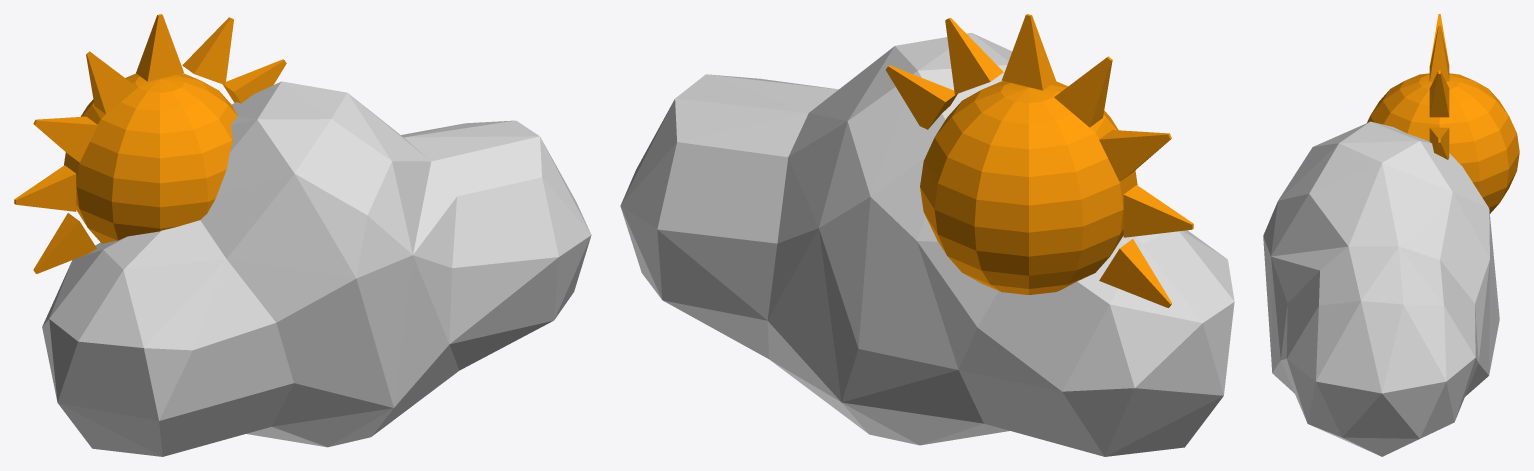
File: cloudSun.glb
3 views of the same model, side by side, from view 1: azimuth 30°, elevation 25°; view 2: azimuth 150°, elevation 25°; view 3: azimuth 270°, elevation 25° (orthographic). The views are drawn at different scales.
Parts seen in each view (by area): view 1: Cloud, node-0; view 2: Cloud, node-0; view 3: Cloud, node-0.
Part boxes in pixels (<box>): Cloud: <box>42,81,591,456</box>; node-0: <box>14,14,286,273</box>; Cloud: <box>620,33,1234,456</box>; node-0: <box>886,14,1193,307</box>; Cloud: <box>1263,121,1499,456</box>; node-0: <box>1367,14,1519,213</box>.
Bounding box in the file's own units: 4.3 × 3.26 × 2.18.
